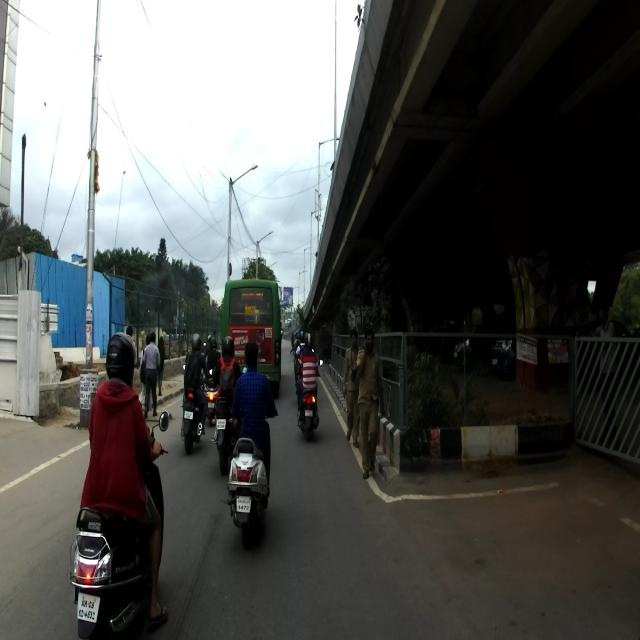motorcycle_Honda: (209, 366, 247, 477)
motorcycle_Suzuki: (180, 359, 209, 455)
scooter: (68, 409, 169, 639), (226, 410, 278, 549), (295, 359, 323, 445)
